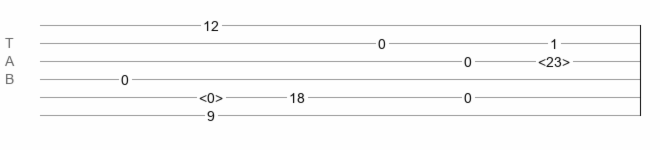0: (121, 72, 129, 82), (378, 36, 386, 46), (464, 90, 472, 100), (464, 54, 472, 64)
1: (550, 36, 558, 46)
12: (203, 18, 219, 28)
18: (289, 90, 305, 100)
9: (207, 108, 215, 118)
harmonic: (538, 54, 570, 64), (199, 90, 223, 100)
